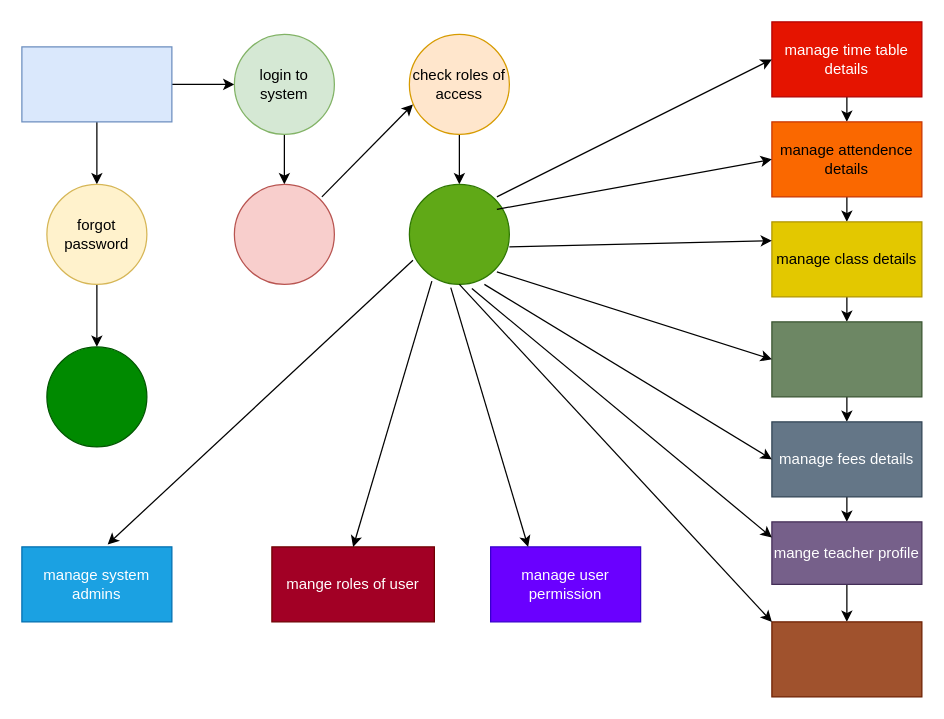
Image size: 944x719. Some labels were removed from this diagram. Each missing label, with the centre of its shape:
admin: the point at 96,84
check credintials: the point at 283,233
manage modules: the point at 458,233
manage report: the point at 846,659
mange student details: the point at 846,359
send email to user: the point at 96,396
